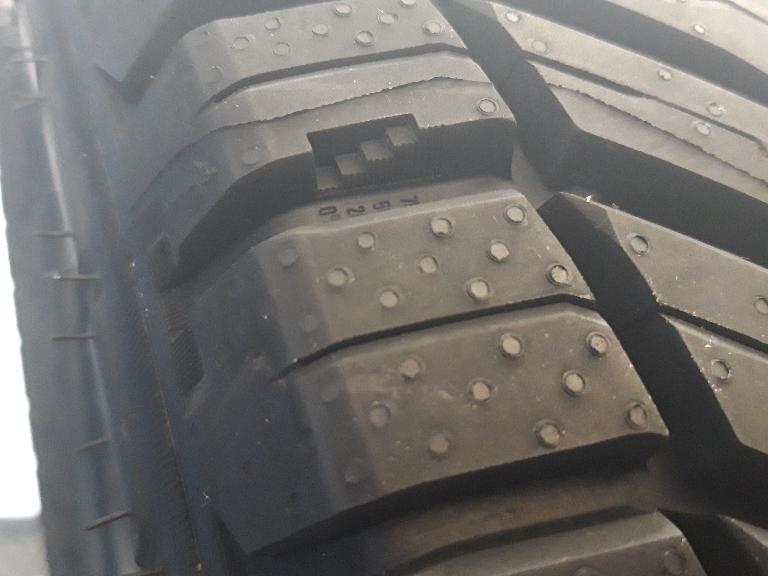temoin:100: (298, 109, 450, 204)
